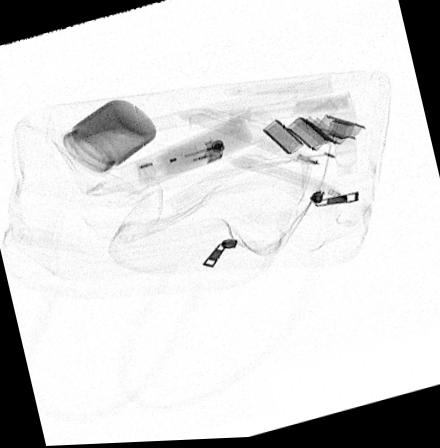Lighter: (136, 140, 226, 188)
